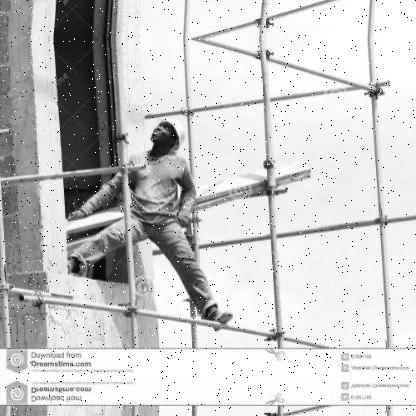Helmet: (146, 116, 188, 158)
